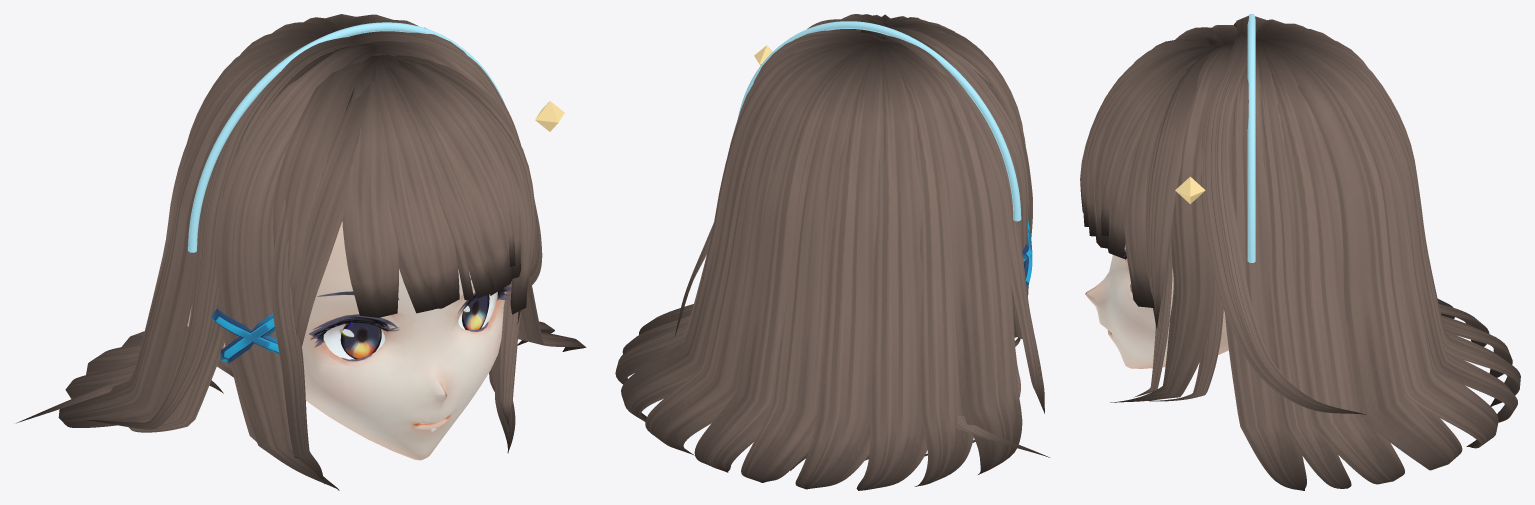
Rendered from imprint-echo.glb.
3 renders of one model, left to right at view 1: azimuth 30°, elevation 25°; view 2: azimuth 150°, elevation 25°; view 3: azimuth 270°, elevation 25°, orthographic. The views are drawn at different scales.
Parts seen in each view (by area): view 1: Echo_Hair, Echo_Face, Echo_Headband; view 2: Echo_Hair, Echo_Headband; view 3: Echo_Hair, Echo_Face, Echo_Headband.
Boxes of the visible parts, box(x1,y1,x2,y2) form: Echo_Hair: box(16, 14, 586, 490); Echo_Face: box(187, 221, 511, 460); Echo_Headband: box(188, 22, 505, 252); Echo_Hair: box(615, 14, 1049, 490); Echo_Headband: box(737, 21, 1021, 221); Echo_Hair: box(1080, 15, 1520, 490); Echo_Face: box(1085, 246, 1228, 368); Echo_Headband: box(1247, 14, 1255, 262).
Bounding box in the file's own units: 2.94 × 2.37 × 2.44.
13 materials, 11 textured.
